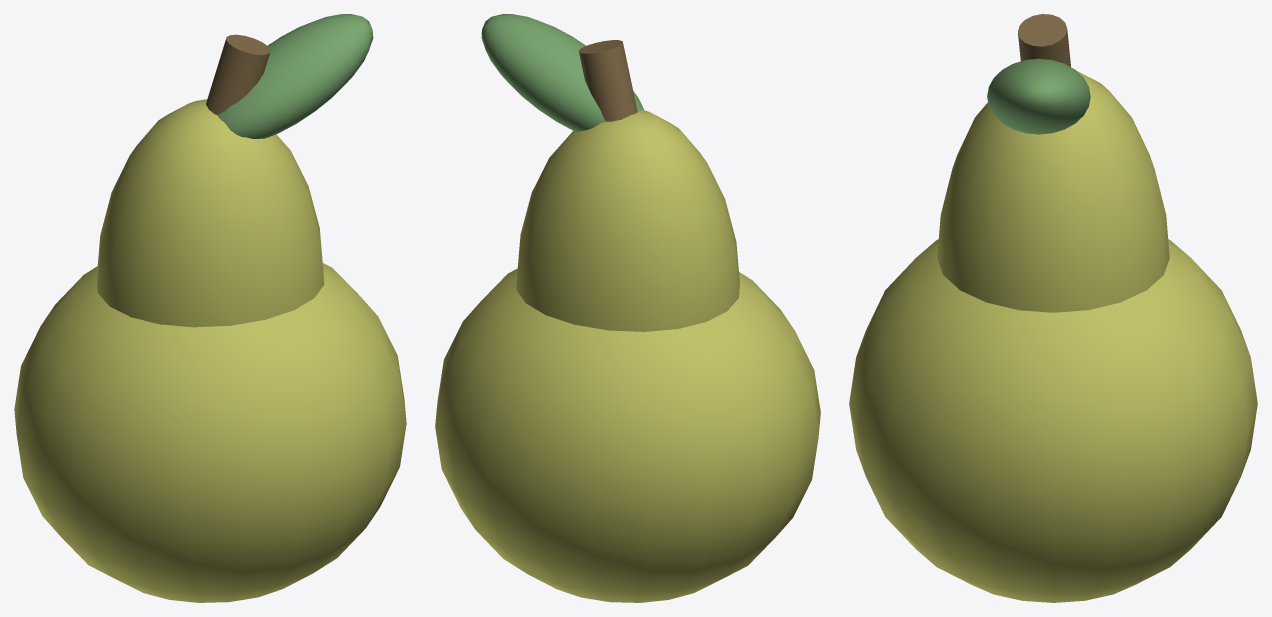
File: pear.glb
3 views of the same model, side by side, from view 1: azimuth 30°, elevation 25°; view 2: azimuth 150°, elevation 25°; view 3: azimuth 270°, elevation 25° (orthographic). The views are drawn at different scales.
Visible parts, largest first — view 1: ball (×3), tube; view 2: ball (×3), tube; view 3: ball (×3), tube.
Boxes of the visible parts, x1,y1,x2,y2 form: ball (×3): (14,14,406,602); tube: (206,34,270,114); ball (×3): (435,14,820,602); tube: (578,40,637,121); ball (×3): (849,58,1257,602); tube: (1018,14,1070,66).
Size of the model in its own units: 0.58 by 0.8697 by 0.56.
